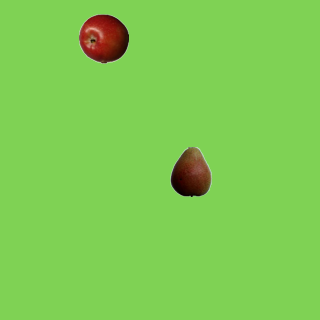Apple Braeburn: (78, 13, 128, 63)
Pear Forelle: (165, 146, 215, 196)
